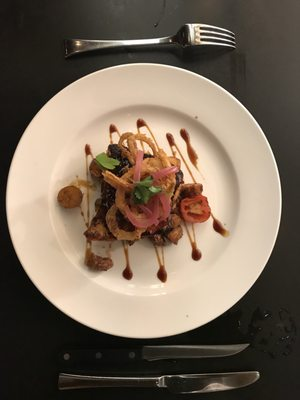sandwich: (55, 371, 270, 394)
